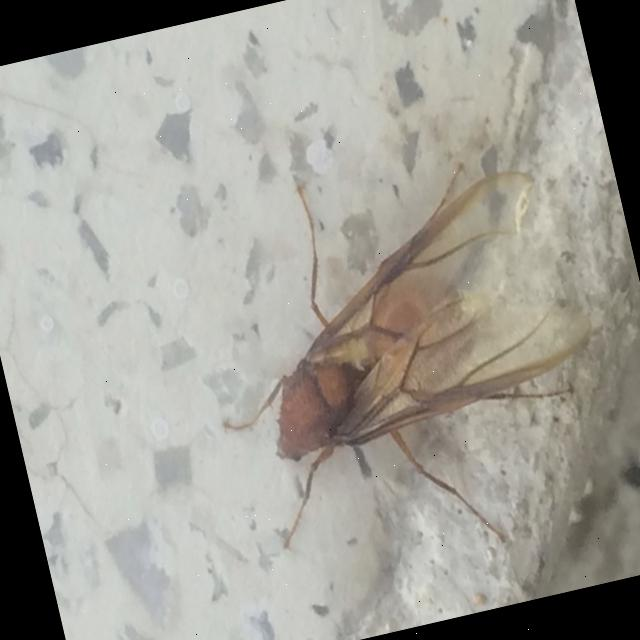Alive-Male-Alate: (173, 126, 634, 596)
